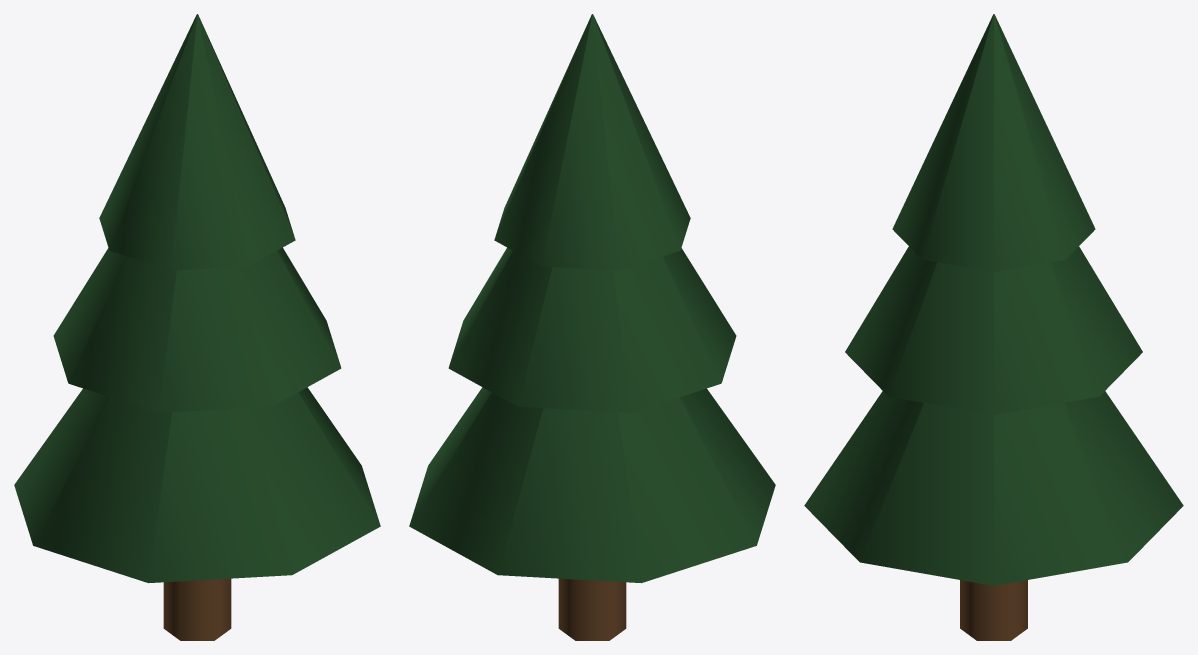
The model's file is tree.glb.
3 renders of one model, left to right at view 1: azimuth 30°, elevation 25°; view 2: azimuth 150°, elevation 25°; view 3: azimuth 270°, elevation 25°, orthographic.
Visible parts, largest first — view 1: tree; view 2: tree; view 3: tree.
Boxes of the visible parts, x1,y1,x2,y2 form: tree: (14, 14, 380, 640); tree: (409, 14, 775, 640); tree: (804, 14, 1183, 640).
Bounding box in the file's own units: 0.56 × 1 × 0.56.
